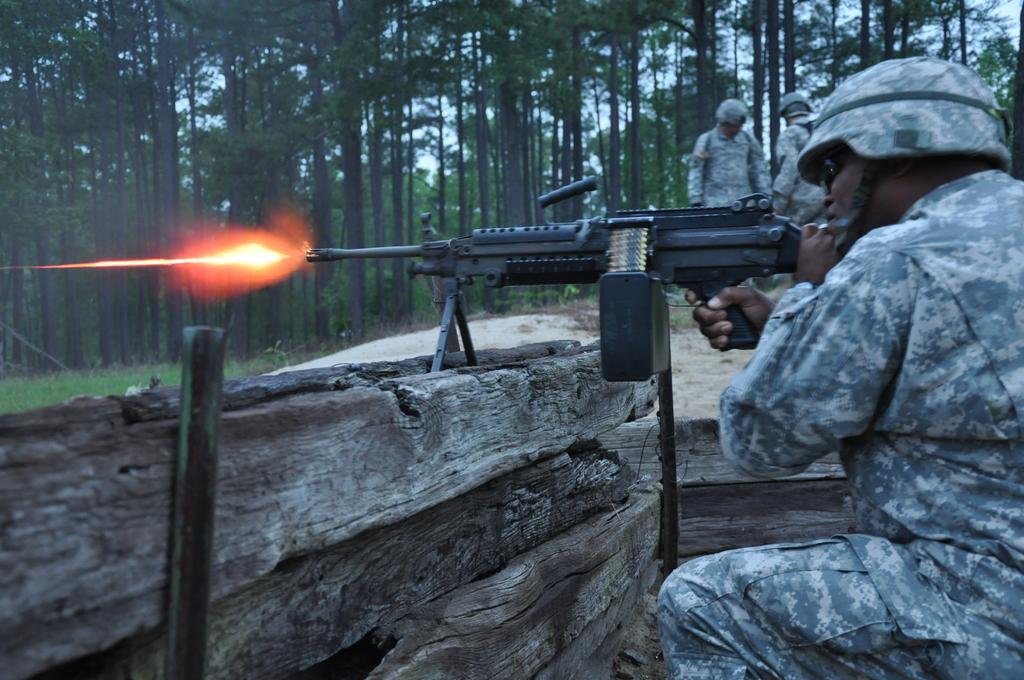Shotgun: (303, 175, 828, 347)
